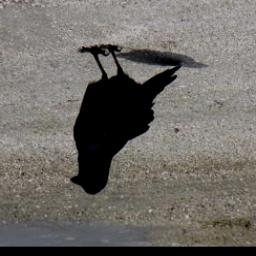Crow: (66, 43, 184, 197)
